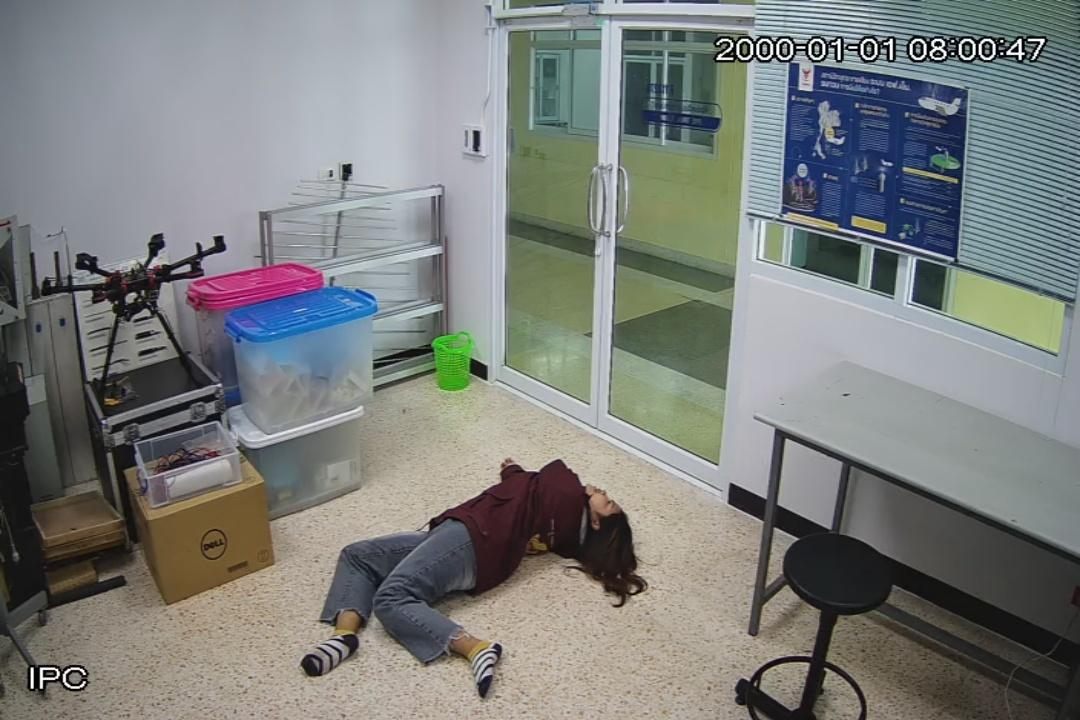fall: (302, 452, 633, 696)
